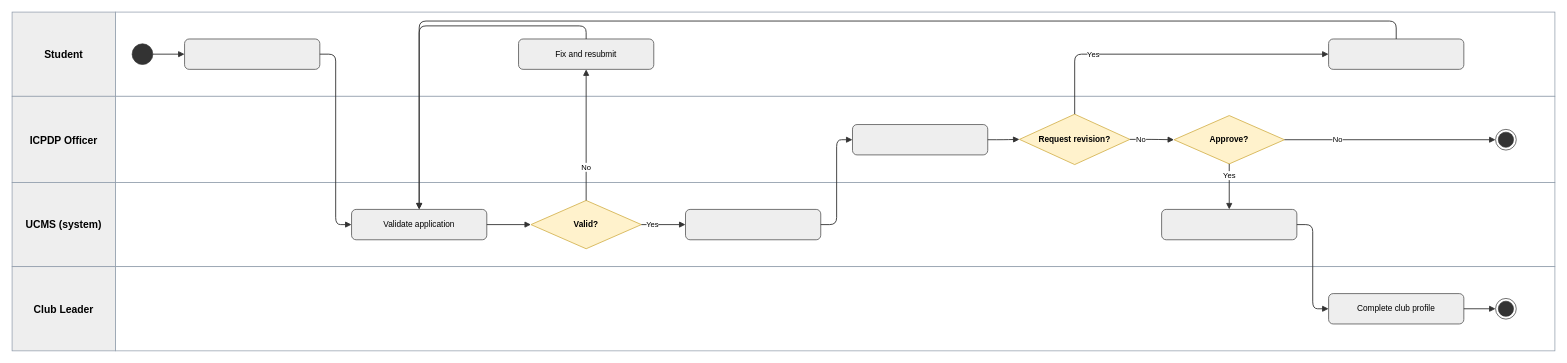
The diagram is 1567 pixels wide and 363 high, and some of its shapes have lost their labels. The centre of each missing label's shape, as x and y in pixels:
"Create club as Active" belongs at [1229,224].
"Review application" belongs at [920,139].
"Revise and resubmit" belongs at [1396,53].
"Save and notify ICPDP" belongs at [753,224].
"Submit founding application" belongs at [252,53].
